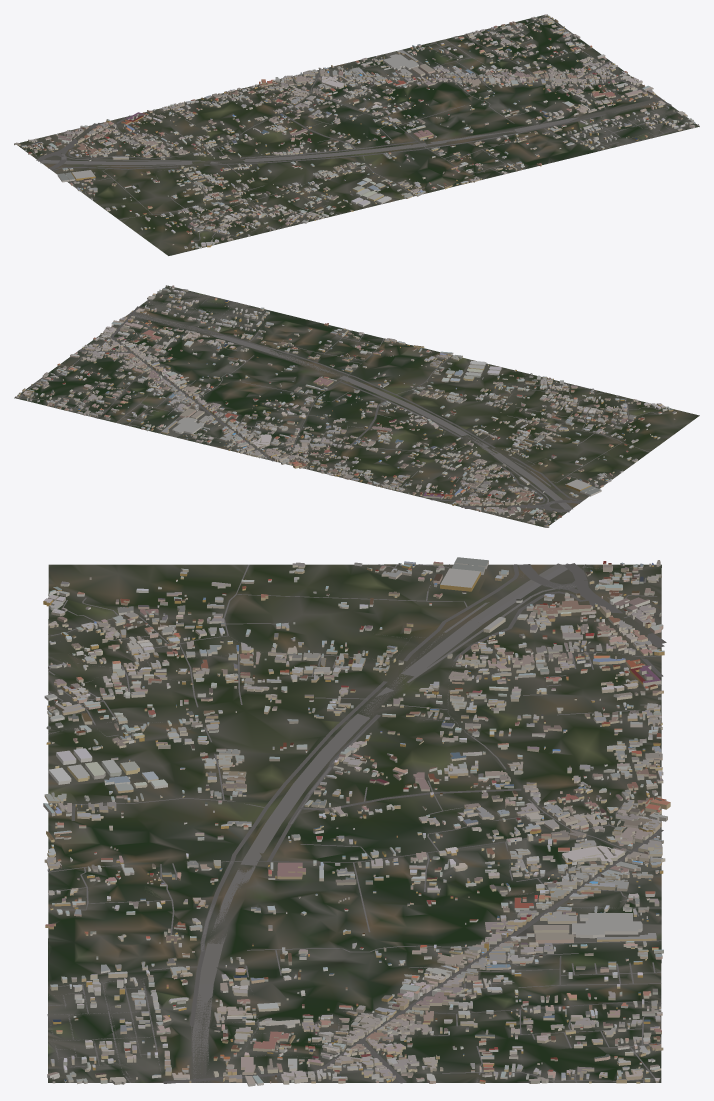
The picture shows the model from 3 angles, top to bottom: view 1: azimuth 30°, elevation 25°; view 2: azimuth 150°, elevation 25°; view 3: azimuth 270°, elevation 25°; orthographic projection. The views are drawn at different scales.
Parts seen in each view (by area): view 1: ground, buildings, roads; view 2: ground, buildings, roads; view 3: ground, buildings, roads.
Part boxes in pixels (x1,y1,x2,y2): ground: (17, 15, 699, 255); buildings: (14, 14, 699, 249); roads: (20, 15, 684, 243); ground: (14, 285, 699, 527); buildings: (15, 285, 676, 527); roads: (19, 293, 658, 522); ground: (48, 564, 661, 1082); buildings: (43, 557, 670, 1086); roads: (47, 563, 666, 1083).
Bounding box in the file's own units: 2843 × 22.04 × 1432.
